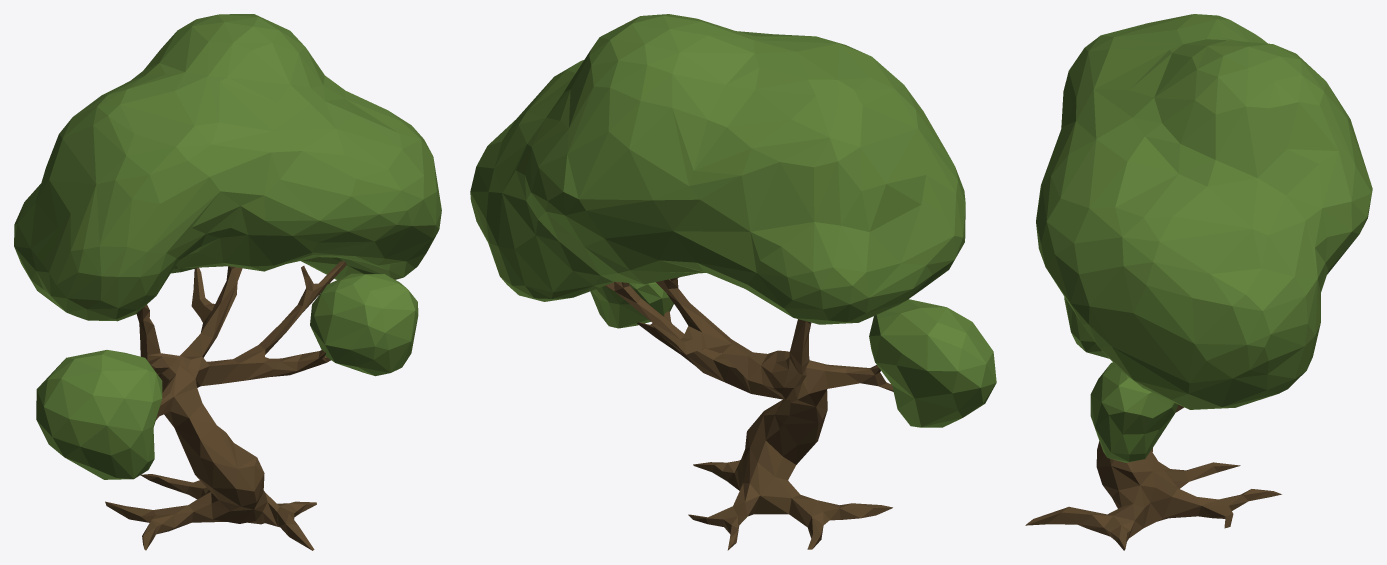
File: Tree_09.glb
The picture shows the model from 3 angles, left to right: view 1: azimuth 30°, elevation 25°; view 2: azimuth 150°, elevation 25°; view 3: azimuth 270°, elevation 25°; orthographic projection. The views are drawn at different scales.
Parts seen in each view (by area): view 1: Tree_09_LOD0; view 2: Tree_09_LOD0; view 3: Tree_09_LOD0.
Boxes of the visible parts, x1,y1,x2,y2 form: Tree_09_LOD0: (14,14,441,550); Tree_09_LOD0: (470,14,996,550); Tree_09_LOD0: (1025,14,1372,550).
Size of what is drawn, in the model's own units: 6.88 by 7.26 by 4.62.
Materials: 1 (1 with a texture image).
